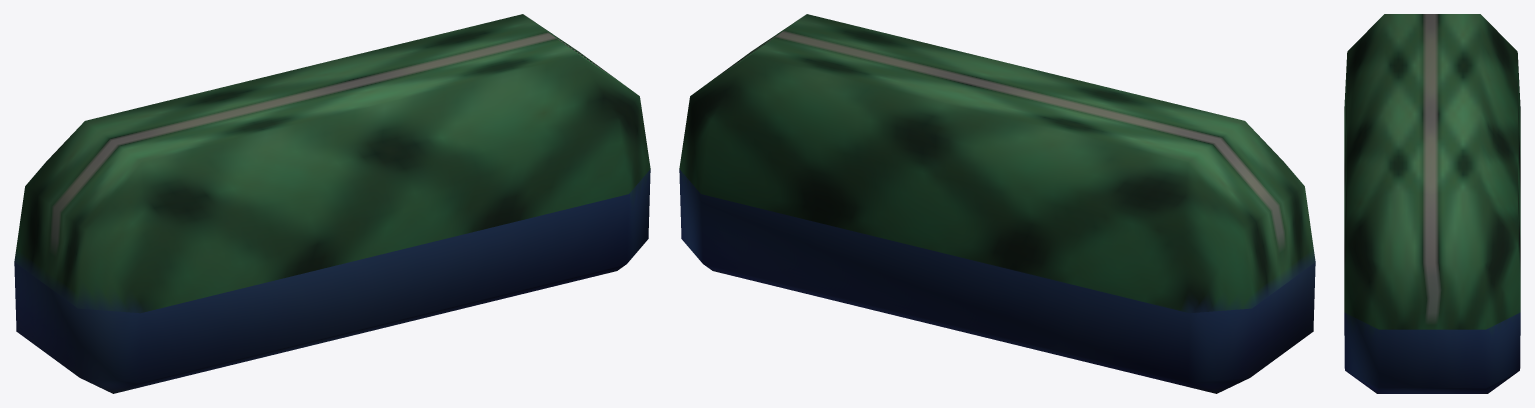
Rendered from pencilCase_typeA3_eve.FBX.
3 renders of one model, left to right at view 1: azimuth 30°, elevation 25°; view 2: azimuth 150°, elevation 25°; view 3: azimuth 270°, elevation 25°, orthographic. The views are drawn at different scales.
Parts seen in each view (by area): view 1: PencilCaseA3_eve; view 2: PencilCaseA3_eve; view 3: PencilCaseA3_eve.
Boxes of the visible parts, x1,y1,x2,y2 form: PencilCaseA3_eve: [14, 14, 650, 393]; PencilCaseA3_eve: [679, 14, 1315, 393]; PencilCaseA3_eve: [1344, 14, 1520, 393].
Bounding box in the file's own units: 19.85 × 7.3 × 6.28.
